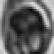correct: (2, 1, 53, 54)
